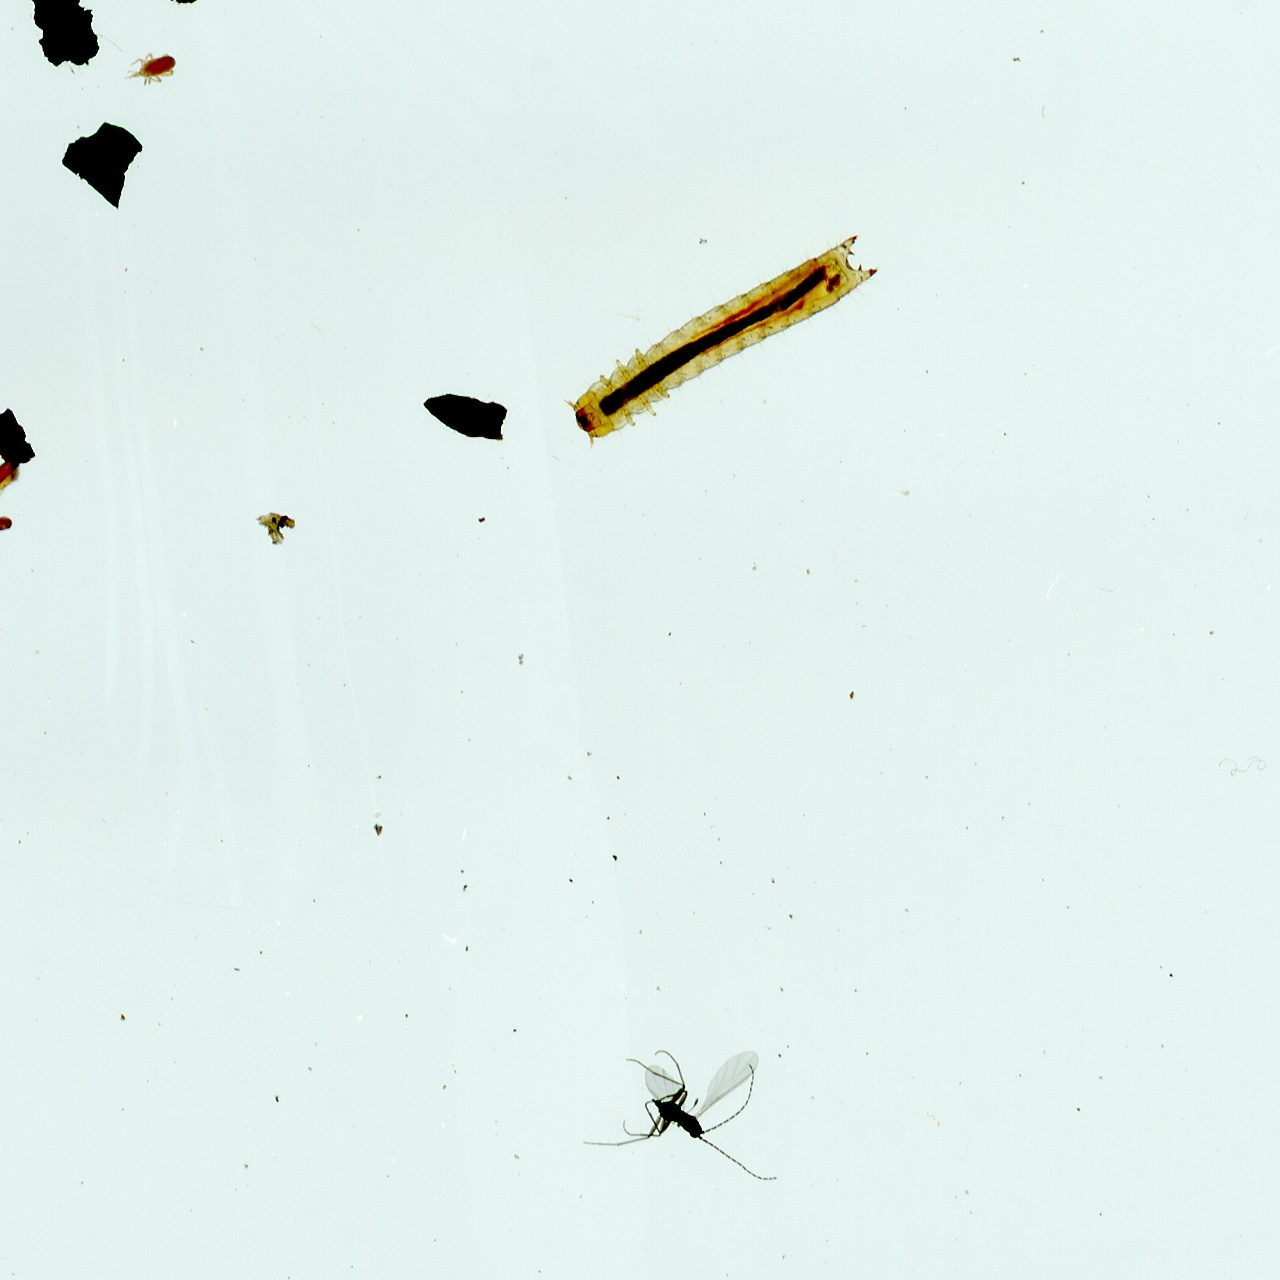arthropod: (560, 233, 879, 443), (591, 1043, 788, 1185), (127, 53, 181, 86)
